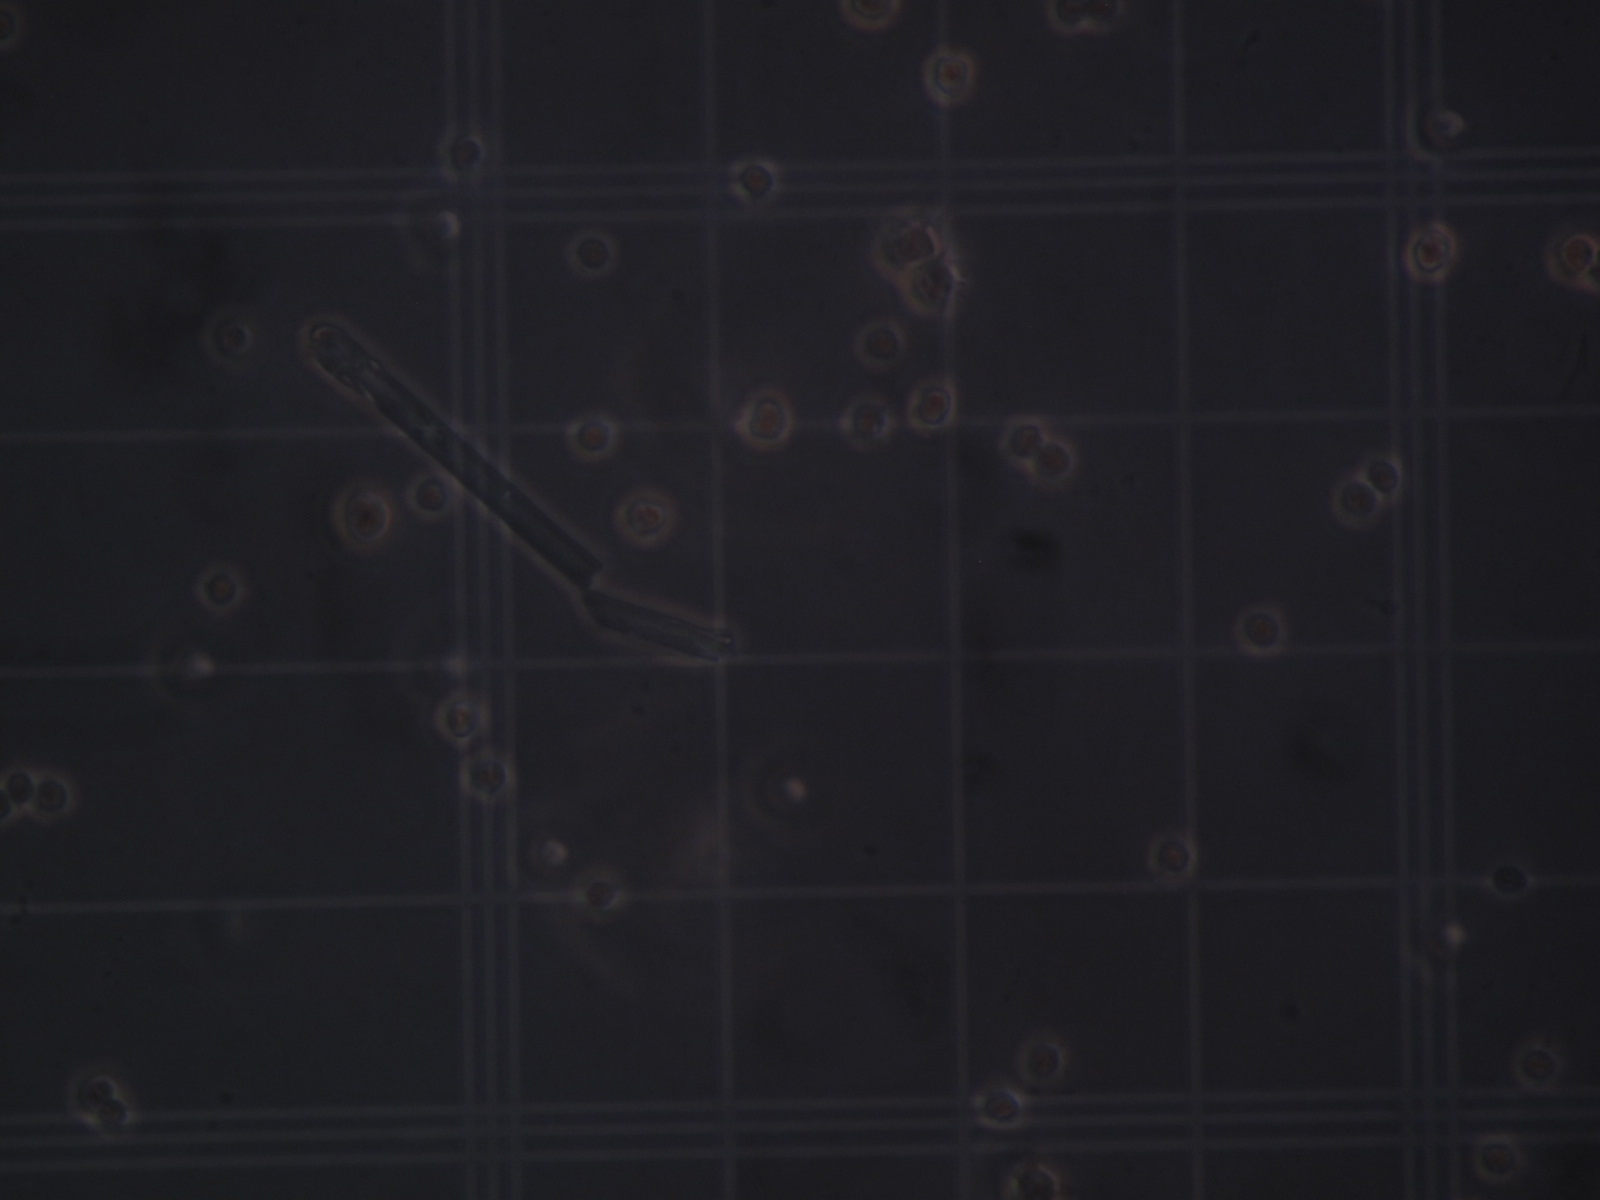hemo: (142, 630, 217, 717), (391, 193, 464, 276), (1401, 95, 1466, 166), (872, 216, 942, 280), (330, 484, 393, 552), (614, 488, 675, 547), (1543, 229, 1600, 289), (738, 389, 794, 450), (200, 310, 254, 371), (1403, 222, 1458, 282), (902, 262, 959, 316), (839, 395, 893, 449), (433, 692, 489, 745), (923, 48, 975, 105), (460, 750, 514, 803), (1330, 474, 1383, 527), (574, 866, 625, 920), (437, 127, 488, 182), (1512, 1040, 1563, 1092), (564, 412, 619, 461), (1017, 1035, 1067, 1087), (1235, 604, 1285, 655), (1471, 1133, 1523, 1184), (908, 379, 957, 432), (68, 1066, 118, 1117), (566, 228, 617, 277), (855, 320, 906, 369), (1146, 832, 1198, 880), (406, 471, 455, 521), (729, 158, 780, 205), (974, 1083, 1026, 1129), (1005, 1160, 1065, 1200), (197, 563, 244, 613), (1002, 416, 1048, 466), (31, 770, 76, 822), (1031, 439, 1077, 487), (1361, 453, 1403, 500), (89, 1097, 136, 1138), (1487, 858, 1534, 899), (840, 1, 901, 30), (5, 766, 38, 816), (1, 3, 21, 50), (1, 778, 16, 828)
